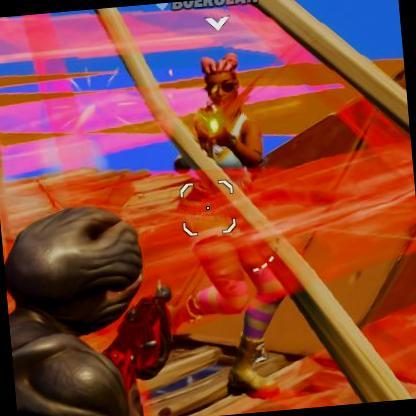person: (180, 63, 282, 369)
